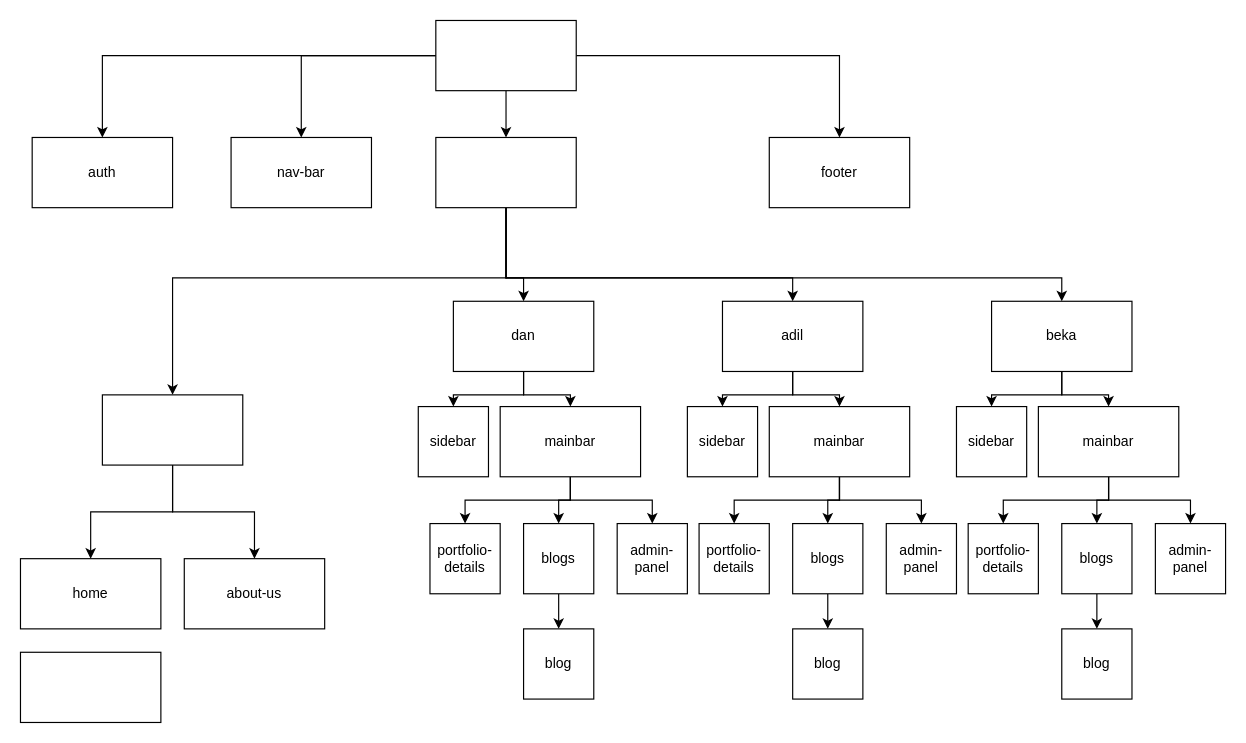
Image size: 1246x743. Some labels were removed from this diagram. The centre of each missing label's shape, as x and y in pixels:
"app" belongs at (505,55).
"home-page" belongs at (172,429).
"members (unused component)" belongs at (90,686).
"router-outlet" belongs at (505,172).
